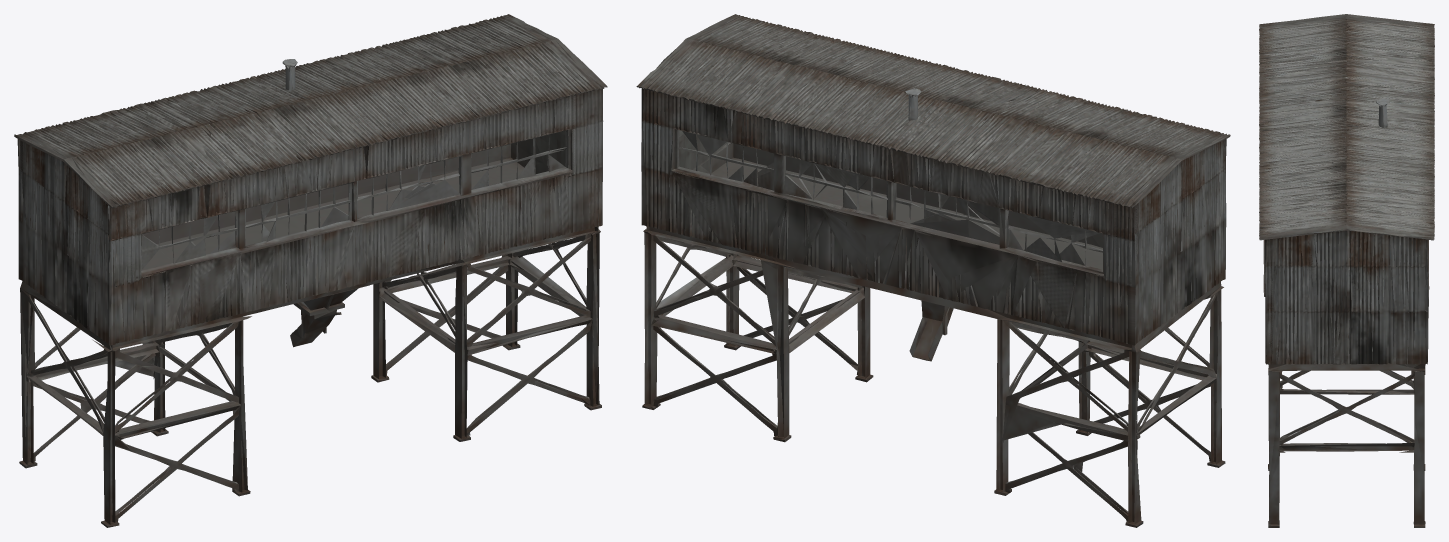
The model's file is screening_house_siebhaus__b.glb.
The picture shows the model from 3 angles, left to right: view 1: azimuth 30°, elevation 25°; view 2: azimuth 150°, elevation 25°; view 3: azimuth 270°, elevation 25°; orthographic projection. The views are drawn at different scales.
Size of the model in its own units: 1.9 by 1.31 by 0.6568.
Materials: 1 (1 with a texture image).
